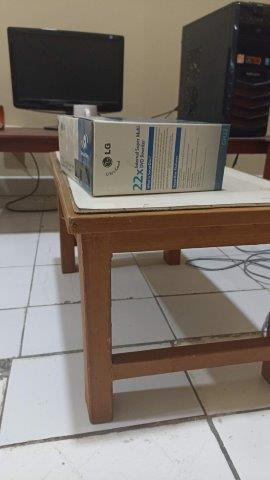kardus: (58, 114, 230, 197)
